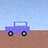vehicle: (5, 22, 29, 36)
